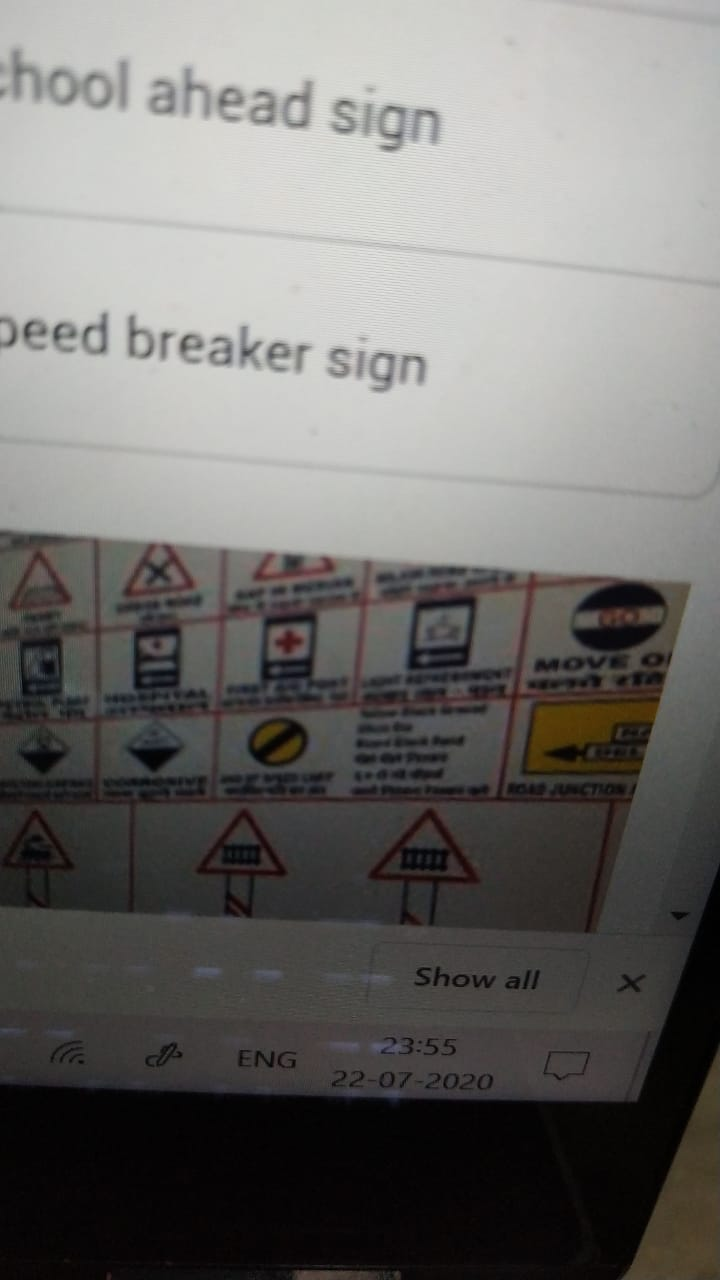GUARDED LEVEL CROSSING: (379, 825, 493, 903), (186, 819, 304, 891)
